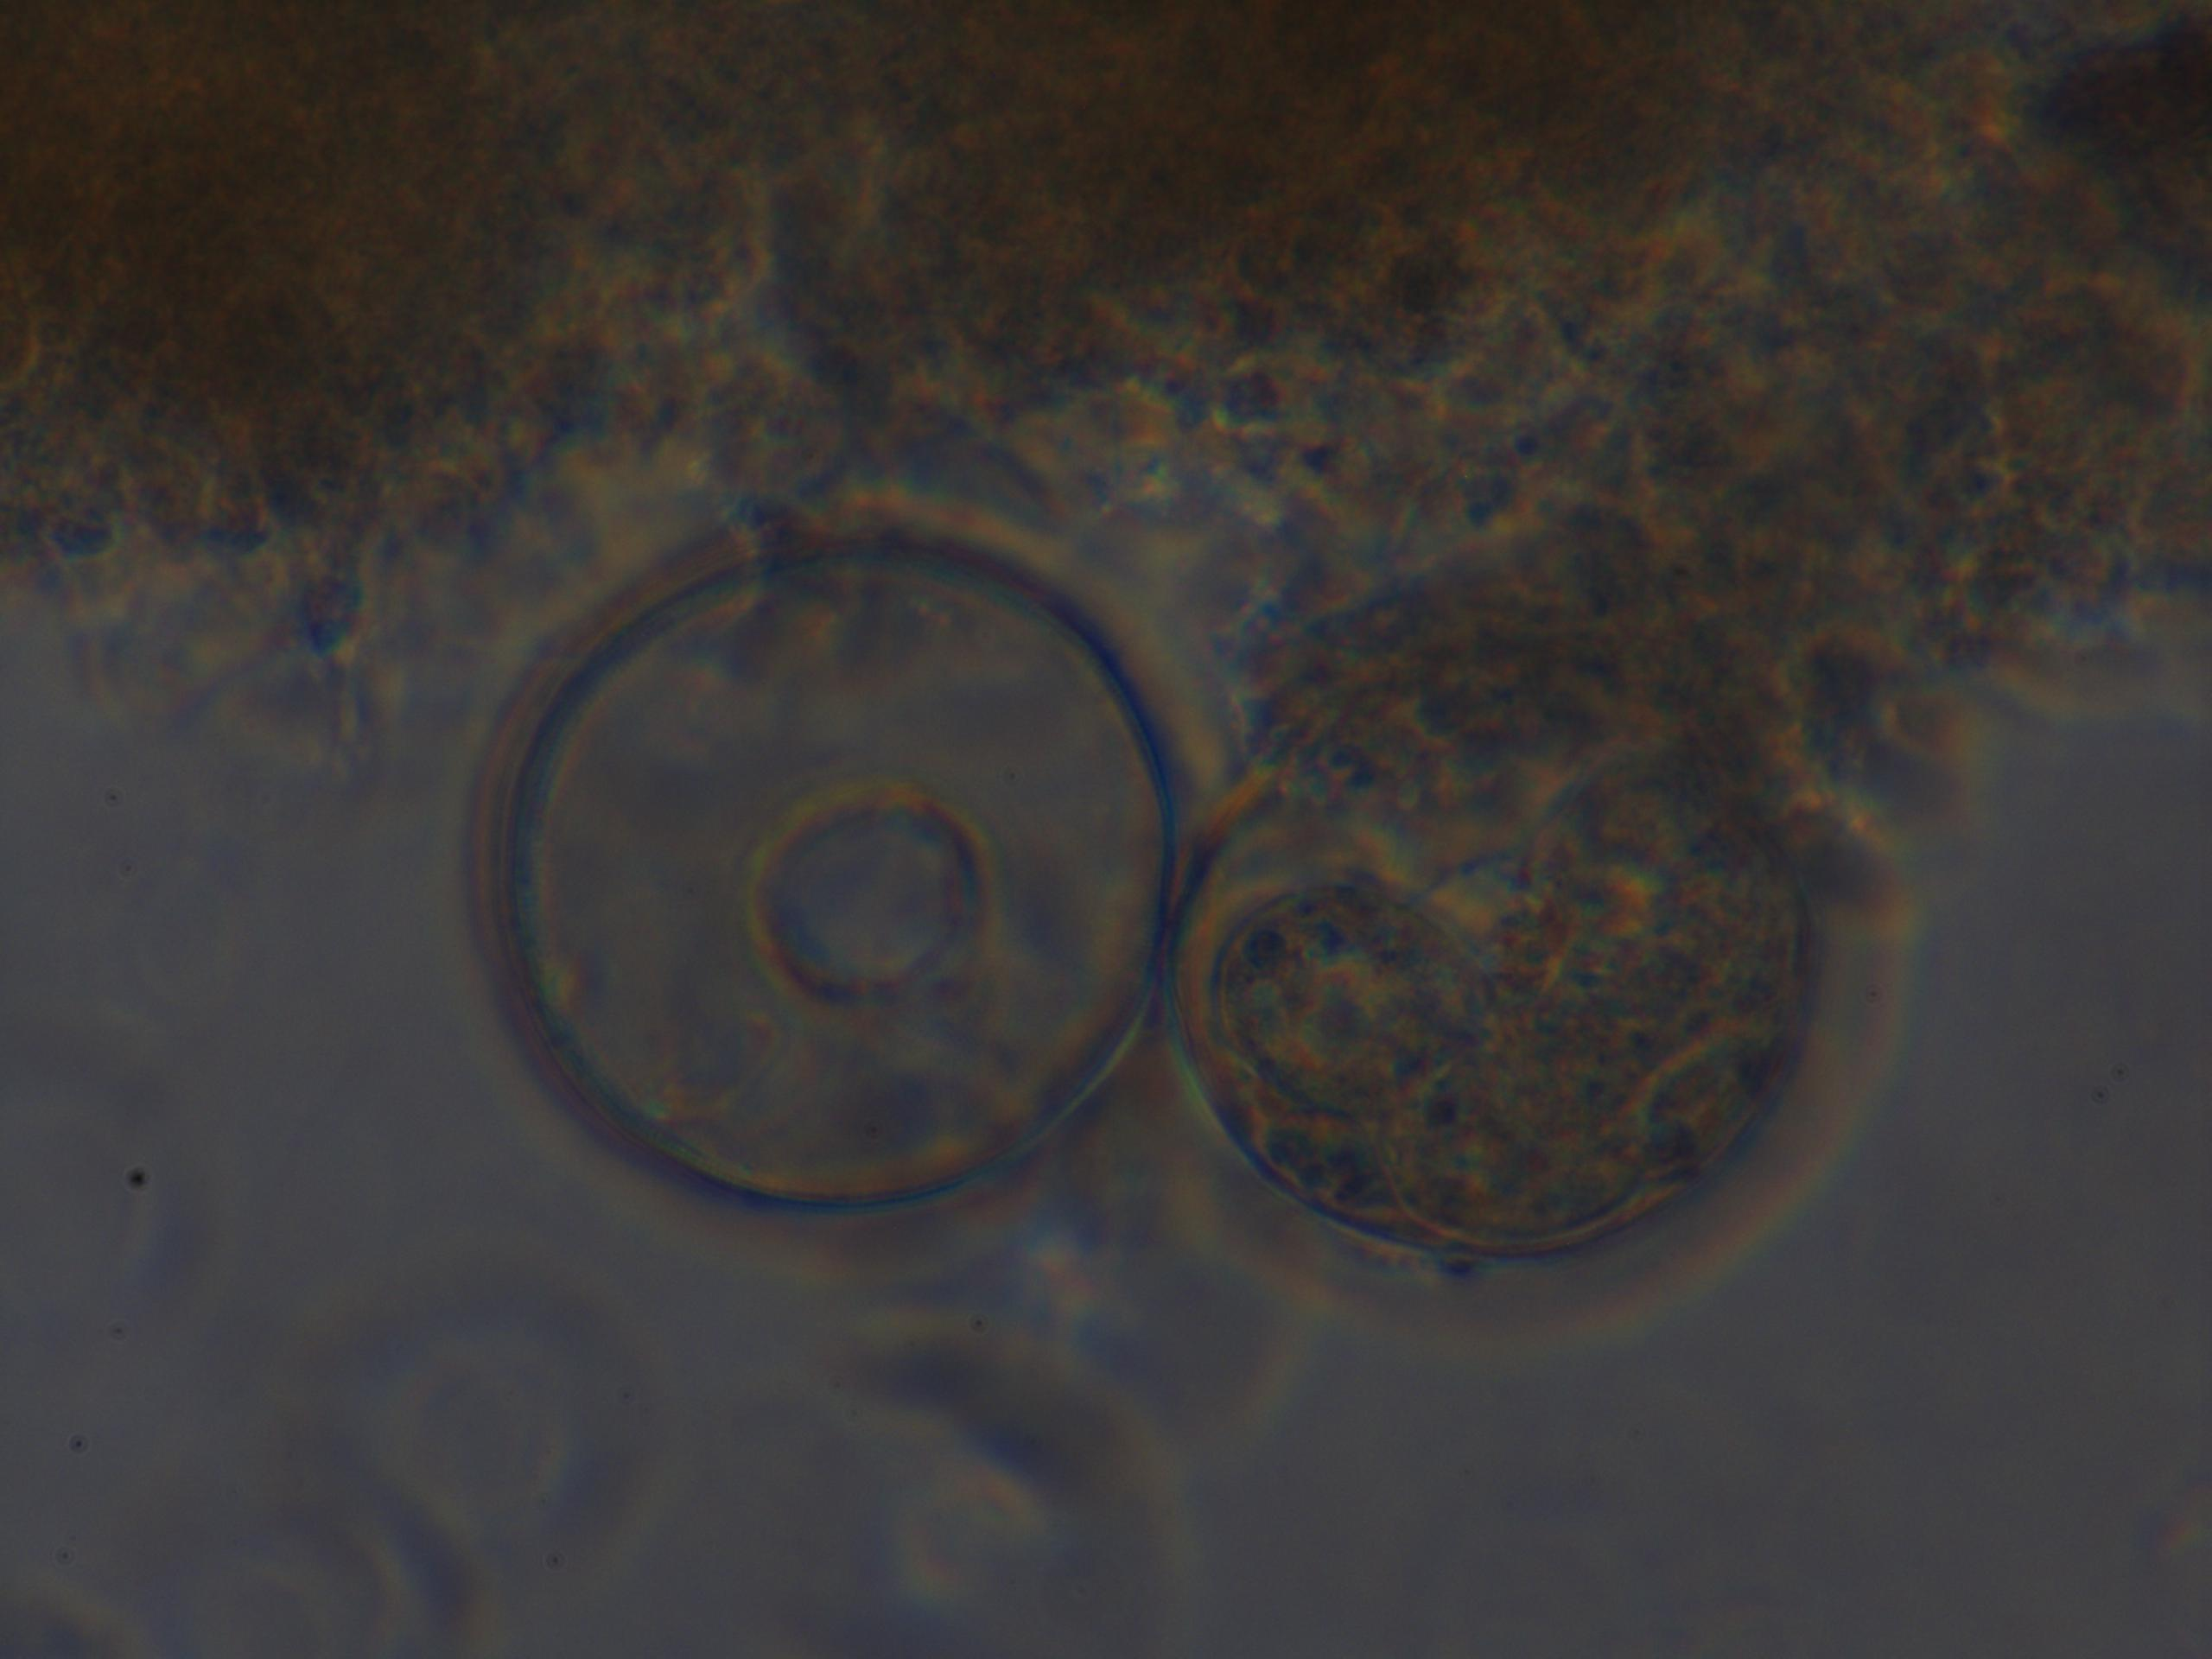protozoa: (451, 511, 1188, 1260), (1150, 716, 1914, 1361)
